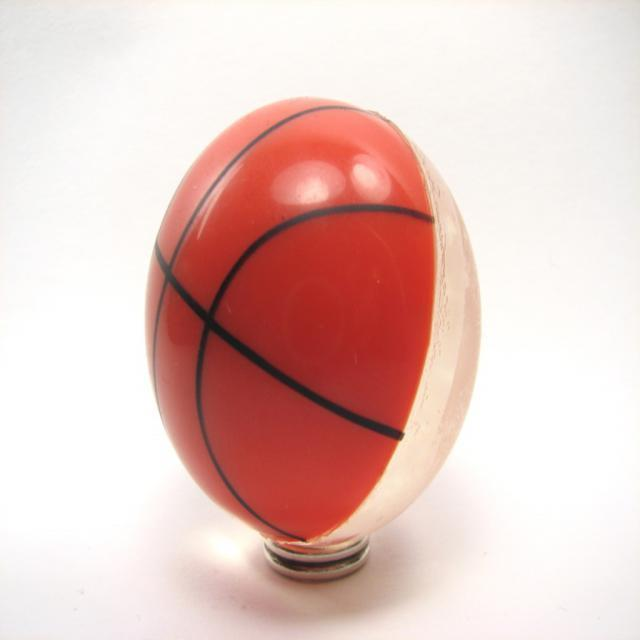ball: (142, 95, 484, 545)
